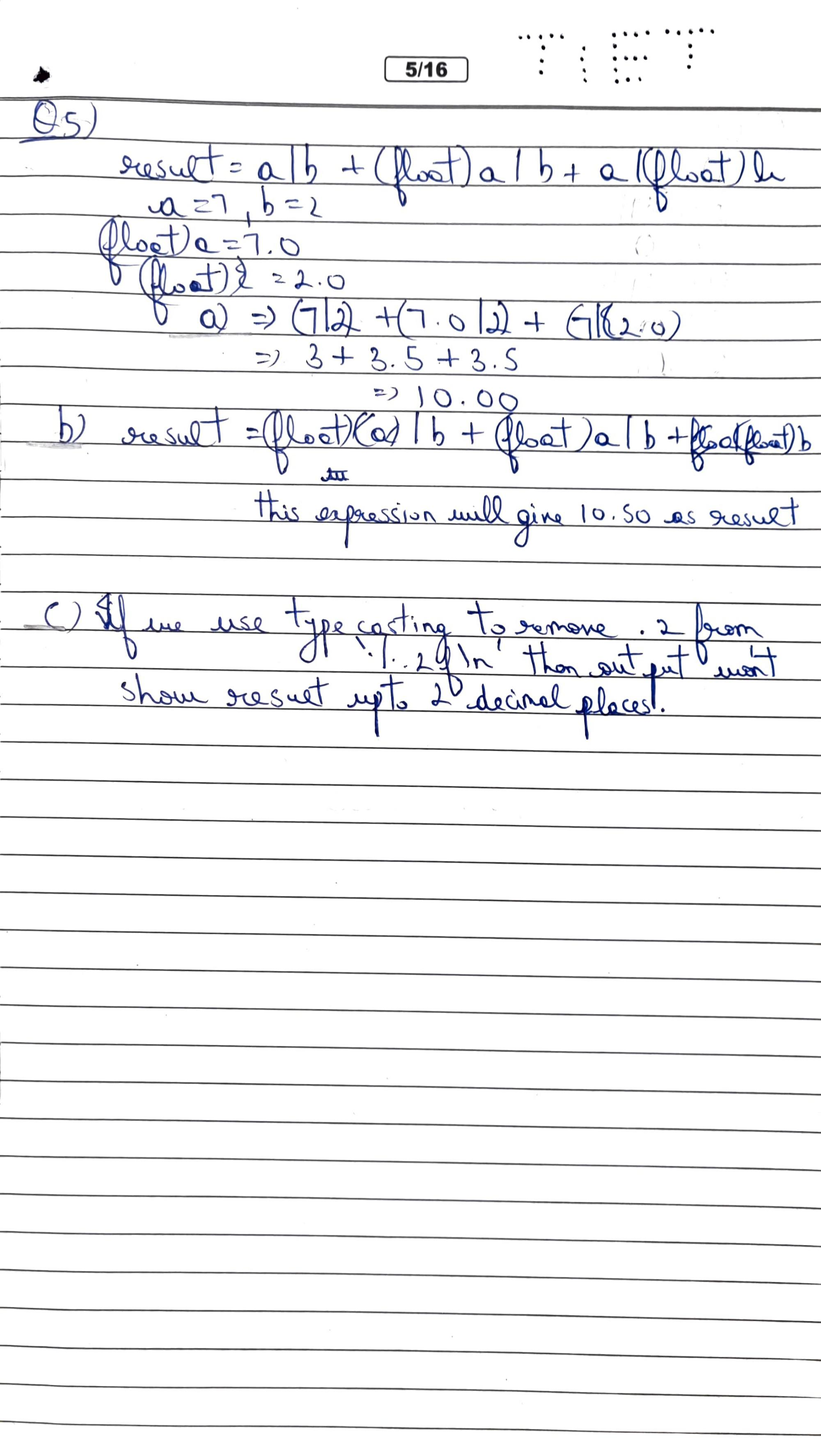cuttings: (688, 414, 740, 475), (352, 411, 400, 448), (228, 254, 255, 298), (600, 301, 625, 341), (319, 466, 350, 483)
